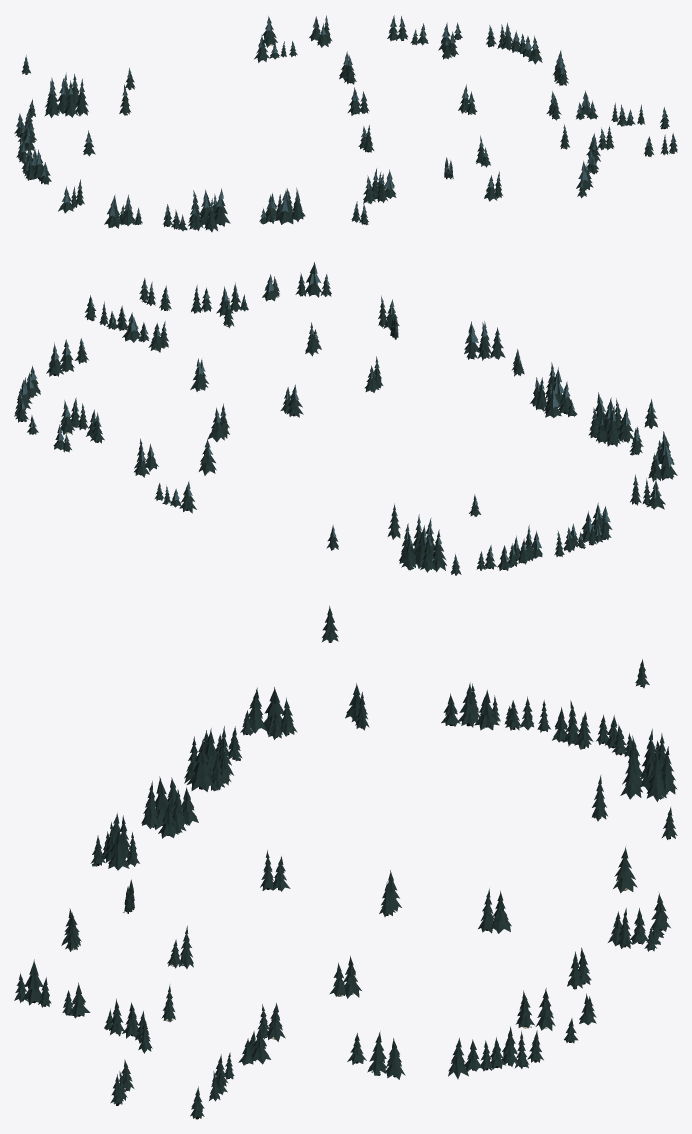
File: ILHA3_10_VEGETATION_4ec5f0.fbx
3 renders of one model, top to bottom at view 1: azimuth 30°, elevation 25°; view 2: azimuth 150°, elevation 25°; view 3: azimuth 270°, elevation 25°, orthographic. The views are drawn at different scales.
Parts seen in each view (by area): view 1: SG_Veg_Pines_West__Leaf_SG_Pine, SG_Veg_Pines_NorthE__Leaf_SG_Pine, SG_Veg_Pines_South__Leaf_SG_Pine, SG_Veg_Pines_VillageE__Leaf_SG_Pine, SG_Veg_Pines_VillageS__Leaf_SG_Pine, SG_Veg_Pines_SouthE__Leaf_SG_Pine, SG_Veg_Pines_North__Leaf_SG_Pine_g8_11, SG_Veg_Pines_VillageW__Leaf_SG_Pine, SG_Veg_Pines_North__Leaf_SGVegMoon, SG_Veg_Pines_North__Leaf_SG_Pine_g8_12, SG_Veg_Pines_West__Leaf_SGVegMoon, SG_Veg_Pines_South__Leaf_SGVegMoon (+5 smaller); view 2: SG_Veg_Pines_NorthE__Leaf_SG_Pine, SG_Veg_Pines_West__Leaf_SG_Pine, SG_Veg_Pines_South__Leaf_SG_Pine, SG_Veg_Pines_VillageS__Leaf_SG_Pine, SG_Veg_Pines_VillageE__Leaf_SG_Pine, SG_Veg_Pines_SouthE__Leaf_SG_Pine, SG_Veg_Pines_North__Leaf_SG_Pine_g8_11, SG_Veg_Pines_North__Leaf_SG_Pine_g8_12, SG_Veg_Pines_VillageW__Leaf_SG_Pine, SG_Veg_Pines_North__Leaf_SGVegMoon, SG_Veg_Pines_West__Leaf_SGVegMoon, SG_Veg_Pines_South__Leaf_SGVegMoon (+3 smaller); view 3: SG_Veg_Pines_NorthE__Leaf_SG_Pine, SG_Veg_Pines_West__Leaf_SG_Pine, SG_Veg_Pines_South__Leaf_SG_Pine, SG_Veg_Pines_SouthE__Leaf_SG_Pine, SG_Veg_Pines_VillageE__Leaf_SG_Pine, SG_Veg_Pines_VillageS__Leaf_SG_Pine, SG_Veg_Pines_North__Leaf_SG_Pine_g8_11, SG_Veg_Pines_North__Leaf_SG_Pine_g8_12, SG_Veg_Pines_VillageW__Leaf_SG_Pine.
Boxes of the visible parts, box(x1,y1,x2,y2) form: SG_Veg_Pines_West__Leaf_SG_Pine: box(188, 191, 368, 232); SG_Veg_Pines_NorthE__Leaf_SG_Pine: box(14, 58, 135, 145); SG_Veg_Pines_South__Leaf_SG_Pine: box(576, 102, 677, 198); SG_Veg_Pines_VillageE__Leaf_SG_Pine: box(261, 16, 407, 115); SG_Veg_Pines_VillageS__Leaf_SG_Pine: box(438, 24, 569, 201); SG_Veg_Pines_SouthE__Leaf_SG_Pine: box(410, 25, 590, 115); SG_Veg_Pines_North__Leaf_SG_Pine_g8_11: box(58, 133, 187, 231); SG_Veg_Pines_VillageW__Leaf_SG_Pine: box(358, 126, 453, 203); SG_Veg_Pines_North__Leaf_SGVegMoon: box(20, 127, 183, 222); SG_Veg_Pines_North__Leaf_SG_Pine_g8_12: box(16, 130, 51, 184); SG_Veg_Pines_West__Leaf_SGVegMoon: box(191, 187, 365, 217); SG_Veg_Pines_South__Leaf_SGVegMoon: box(577, 100, 674, 187); SG_Veg_Pines_NorthE__Leaf_SG_Pine: box(326, 495, 535, 575); SG_Veg_Pines_West__Leaf_SG_Pine: box(511, 350, 633, 446); SG_Veg_Pines_South__Leaf_SG_Pine: box(84, 264, 331, 342); SG_Veg_Pines_VillageS__Leaf_SG_Pine: box(60, 298, 399, 434); SG_Veg_Pines_VillageE__Leaf_SG_Pine: box(86, 387, 303, 477); SG_Veg_Pines_SouthE__Leaf_SG_Pine: box(14, 314, 140, 452); SG_Veg_Pines_North__Leaf_SG_Pine_g8_11: box(629, 401, 677, 509); SG_Veg_Pines_North__Leaf_SG_Pine_g8_12: box(531, 505, 612, 558); SG_Veg_Pines_VillageW__Leaf_SG_Pine: box(364, 314, 505, 392); SG_Veg_Pines_North__Leaf_SGVegMoon: box(535, 399, 673, 549); SG_Veg_Pines_West__Leaf_SGVegMoon: box(516, 349, 630, 425); SG_Veg_Pines_South__Leaf_SGVegMoon: box(90, 262, 329, 334); SG_Veg_Pines_NorthE__Leaf_SG_Pine: box(563, 660, 677, 839); SG_Veg_Pines_West__Leaf_SG_Pine: box(90, 730, 233, 866); SG_Veg_Pines_South__Leaf_SG_Pine: box(14, 963, 255, 1118); SG_Veg_Pines_SouthE__Leaf_SG_Pine: box(251, 995, 596, 1079); SG_Veg_Pines_VillageE__Leaf_SG_Pine: box(379, 849, 648, 989); SG_Veg_Pines_VillageS__Leaf_SG_Pine: box(61, 910, 555, 1041); SG_Veg_Pines_North__Leaf_SG_Pine_g8_11: box(215, 608, 369, 760); SG_Veg_Pines_North__Leaf_SG_Pine_g8_12: box(441, 685, 567, 742); SG_Veg_Pines_VillageW__Leaf_SG_Pine: box(104, 815, 290, 912).
Bounding box in the file's own units: 415 × 67.9 × 296.
Materials: 6 (3 with a texture image).
